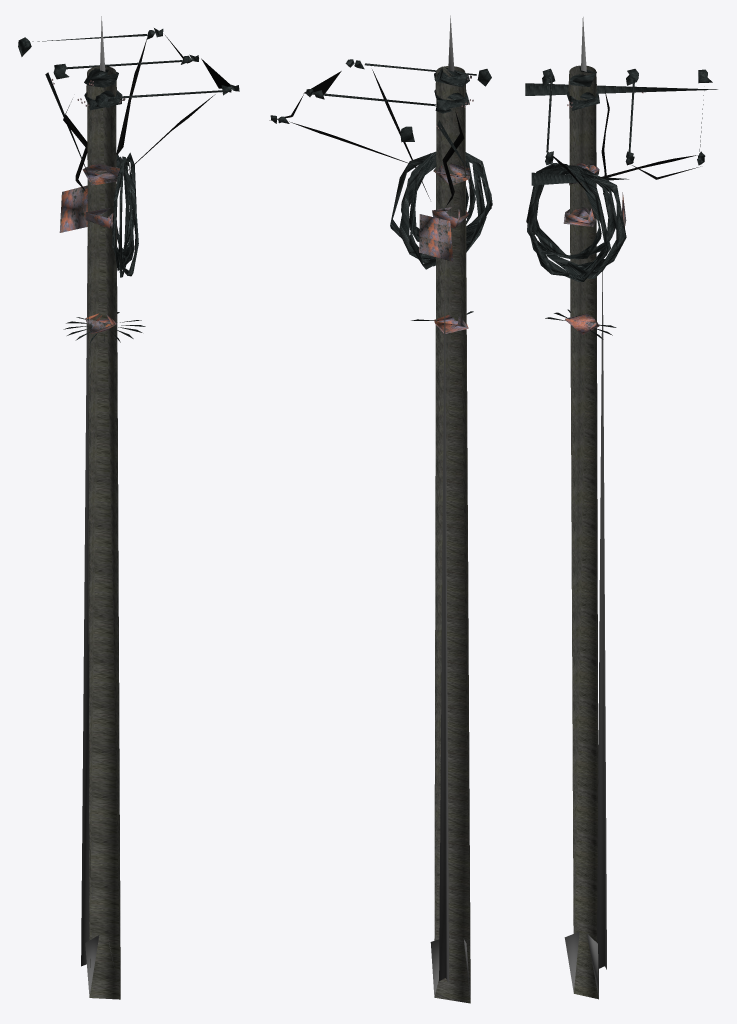
File: upole_gear.glb
3 renders of one model, left to right at view 1: azimuth 30°, elevation 25°; view 2: azimuth 150°, elevation 25°; view 3: azimuth 270°, elevation 25°, orthographic.
Visible parts, largest first — view 1: ID2633_w; view 2: ID2633_w; view 3: ID2633_w.
Part boxes in pixels (x1,y1,x2,y2): ID2633_w: (18, 16, 239, 999); ID2633_w: (269, 15, 492, 1003); ID2633_w: (525, 17, 717, 999).
Size of the model in its own units: 1.73 by 10.26 by 1.86.
8 materials, 5 textured.
